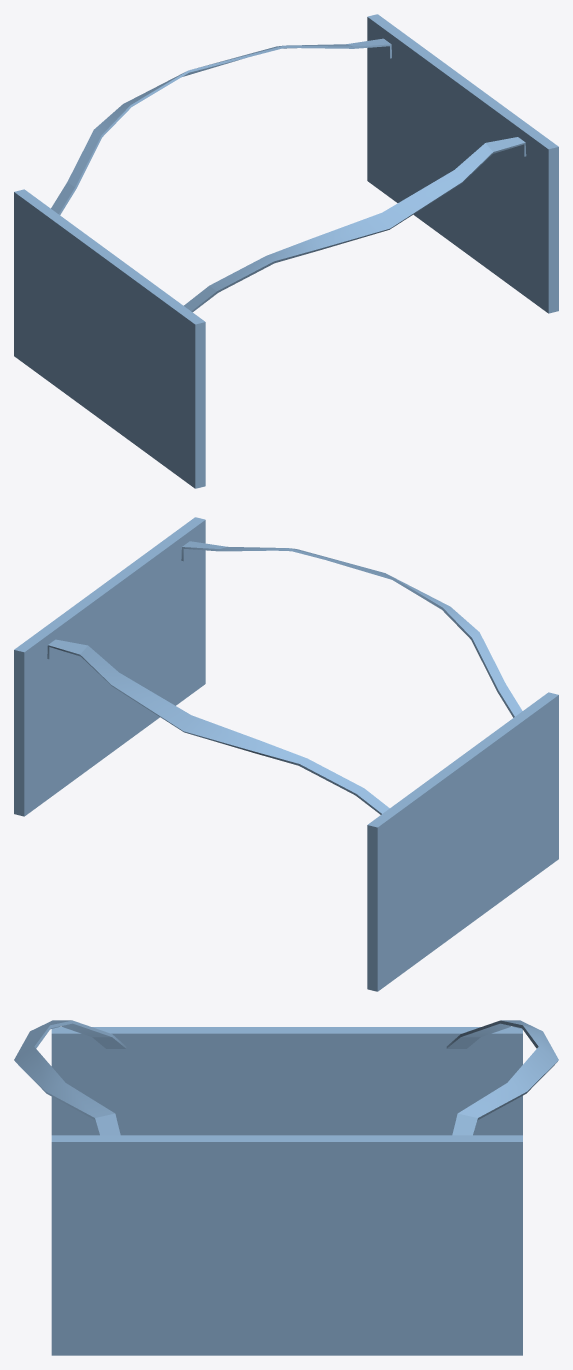
Rendered from PSKpenguSandwichBoard.FBX.
3 views of the same model, one above another, from view 1: azimuth 30°, elevation 25°; view 2: azimuth 150°, elevation 25°; view 3: azimuth 270°, elevation 25° (orthographic). The views are drawn at different scales.
Parts seen in each view (by area): view 1: PSKsandwichBoard; view 2: PSKsandwichBoard; view 3: PSKsandwichBoard.
Boxes of the visible parts, left/top/right/bottom form: PSKsandwichBoard: left=14, top=14, right=558, bottom=488; PSKsandwichBoard: left=14, top=517, right=558, bottom=991; PSKsandwichBoard: left=14, top=1020, right=558, bottom=1355.
Size of the model in its own units: 1.74 by 1.16 by 1.74.
